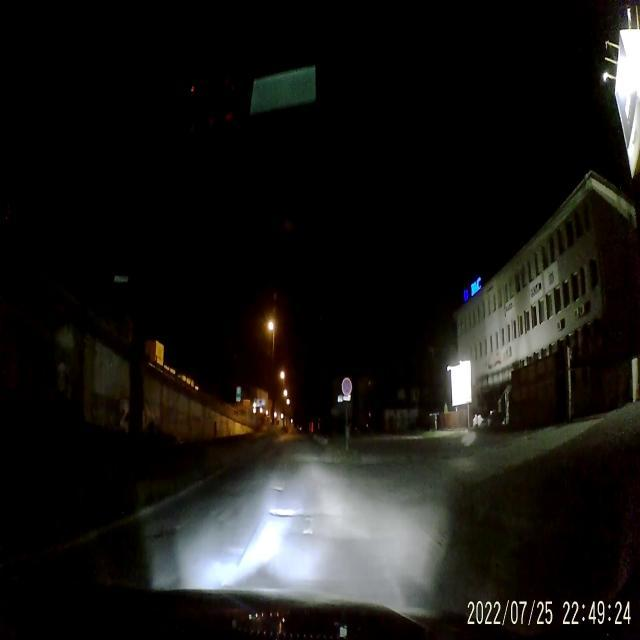Pothole: (267, 505, 299, 521), (299, 522, 312, 540), (272, 483, 286, 498)
